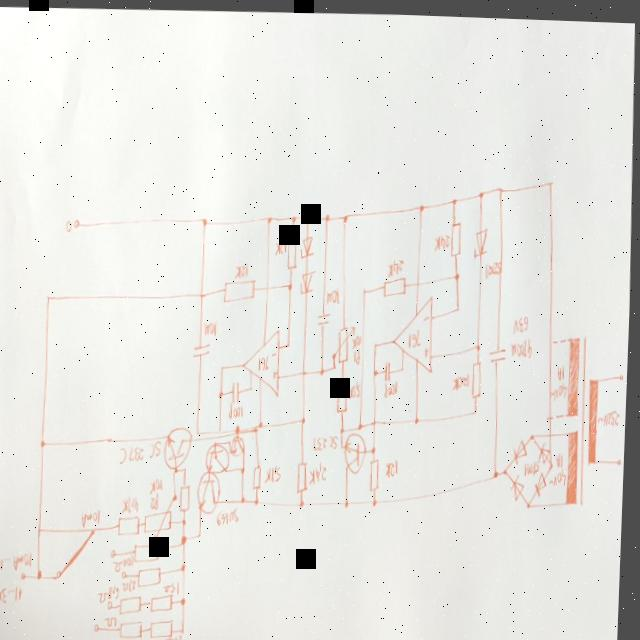capacitor: (490, 342, 509, 361), (195, 340, 213, 357), (233, 378, 243, 402), (318, 309, 332, 325), (385, 357, 394, 380)
crossover: (373, 415, 380, 425), (303, 366, 309, 375), (416, 275, 422, 284), (265, 281, 271, 290), (550, 425, 555, 433)
diode: (473, 223, 491, 256), (512, 470, 527, 499), (515, 434, 530, 462), (301, 267, 316, 294), (301, 231, 316, 258), (537, 466, 549, 493), (541, 437, 554, 460)
junction: (183, 533, 191, 545), (342, 209, 350, 221), (175, 463, 182, 476), (40, 567, 47, 579), (455, 268, 462, 279), (306, 212, 313, 222), (288, 279, 295, 289), (419, 200, 426, 210), (302, 413, 309, 423), (359, 418, 366, 428), (531, 427, 538, 437), (184, 515, 191, 525), (185, 594, 191, 605), (416, 412, 422, 423), (243, 463, 249, 474), (260, 418, 267, 427), (220, 387, 226, 397), (373, 442, 379, 452), (43, 438, 49, 448), (452, 193, 458, 203), (325, 211, 331, 221), (374, 365, 380, 375), (321, 364, 327, 374), (257, 495, 263, 505), (203, 216, 209, 226), (184, 561, 190, 571), (477, 339, 483, 349), (479, 186, 485, 196), (47, 293, 53, 303), (496, 465, 502, 475), (347, 497, 353, 507), (302, 497, 308, 507), (375, 495, 381, 505), (550, 409, 556, 419), (39, 524, 45, 534), (292, 213, 298, 222), (549, 175, 555, 184), (267, 213, 273, 222), (505, 463, 511, 472), (236, 422, 242, 431), (244, 494, 249, 504), (550, 334, 556, 342), (499, 181, 504, 190), (201, 530, 206, 539), (184, 625, 189, 634), (288, 338, 293, 347), (457, 302, 462, 311), (201, 290, 206, 299), (251, 382, 256, 391), (551, 455, 556, 464), (342, 423, 347, 432), (364, 284, 369, 292), (529, 497, 534, 505), (374, 339, 379, 347), (256, 424, 261, 432), (222, 362, 226, 370), (402, 363, 406, 371), (186, 463, 190, 471), (221, 424, 225, 432), (476, 405, 480, 412), (199, 428, 203, 435), (334, 361, 338, 367), (343, 441, 346, 447)
resistor: (333, 322, 358, 361), (224, 274, 257, 302), (152, 614, 178, 640), (136, 540, 164, 563), (122, 617, 149, 640), (121, 512, 144, 536), (122, 593, 147, 615), (473, 355, 486, 397), (384, 273, 408, 295), (140, 564, 165, 585), (338, 373, 351, 412), (298, 457, 312, 493), (451, 218, 464, 254), (154, 592, 177, 612), (372, 455, 384, 493), (287, 230, 299, 268), (181, 482, 195, 512), (255, 461, 265, 488)
switch: (55, 524, 132, 633)
terminal: (73, 217, 82, 229), (24, 570, 31, 583), (618, 452, 624, 462), (621, 367, 626, 377)
text: (121, 437, 164, 466), (0, 550, 36, 576), (0, 583, 27, 609), (217, 503, 244, 526), (512, 334, 535, 356), (599, 403, 623, 424), (311, 458, 330, 484), (486, 251, 505, 277), (83, 507, 106, 528), (115, 552, 139, 572), (315, 432, 341, 450), (266, 462, 286, 484), (102, 583, 125, 602), (387, 254, 406, 275), (124, 493, 143, 514), (513, 310, 531, 332), (552, 377, 570, 398), (409, 325, 424, 348), (454, 371, 473, 389), (229, 400, 247, 419), (434, 230, 452, 248), (387, 455, 402, 476), (166, 579, 185, 595), (327, 283, 342, 303), (526, 455, 543, 472), (235, 261, 251, 279), (152, 474, 166, 494), (553, 466, 569, 482), (125, 577, 142, 592), (350, 379, 364, 397), (275, 235, 288, 254), (386, 378, 401, 394), (205, 319, 220, 335), (168, 630, 189, 640), (108, 614, 122, 628), (558, 358, 567, 378), (260, 352, 270, 370), (353, 330, 364, 346), (153, 490, 162, 509), (556, 448, 566, 464), (355, 344, 363, 362), (65, 219, 74, 233), (274, 364, 280, 378), (272, 345, 279, 357), (425, 344, 431, 354), (425, 311, 431, 321)
transformer: (565, 328, 605, 502)
transistor: (146, 490, 181, 543), (165, 423, 196, 470), (199, 469, 226, 514), (343, 430, 370, 474), (206, 439, 233, 472), (232, 433, 249, 457)
